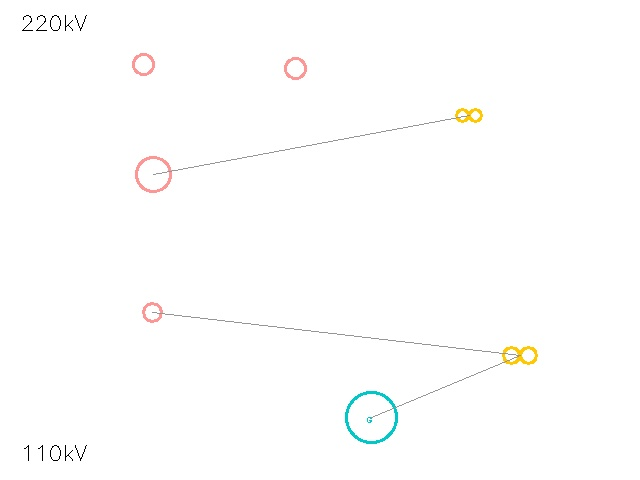current_transformer: (119, 140, 187, 208)
disconnect_switch: (274, 47, 316, 89)
fuse: (122, 43, 164, 85), (133, 293, 171, 331)
generator: (346, 392, 396, 442)
transformer_2w: (499, 334, 541, 376), (452, 98, 486, 132)
